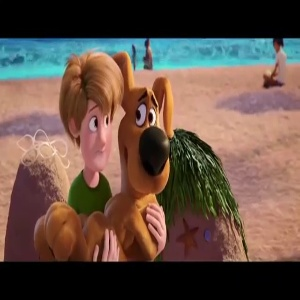Scooby: (120, 71, 187, 185)
Shagy: (65, 51, 116, 172)
